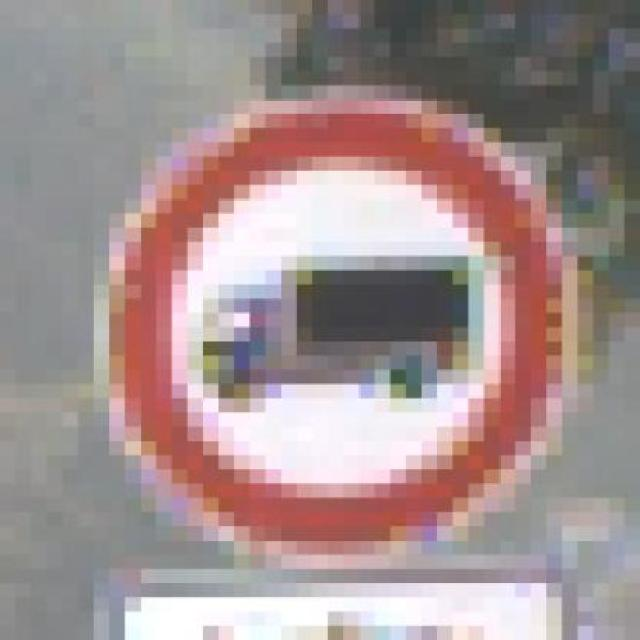Truck traffic is prohibited: (78, 85, 593, 598)
